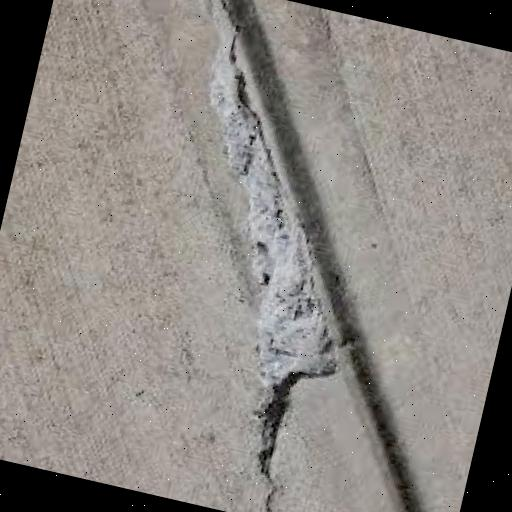spalling: (201, 21, 347, 512)
